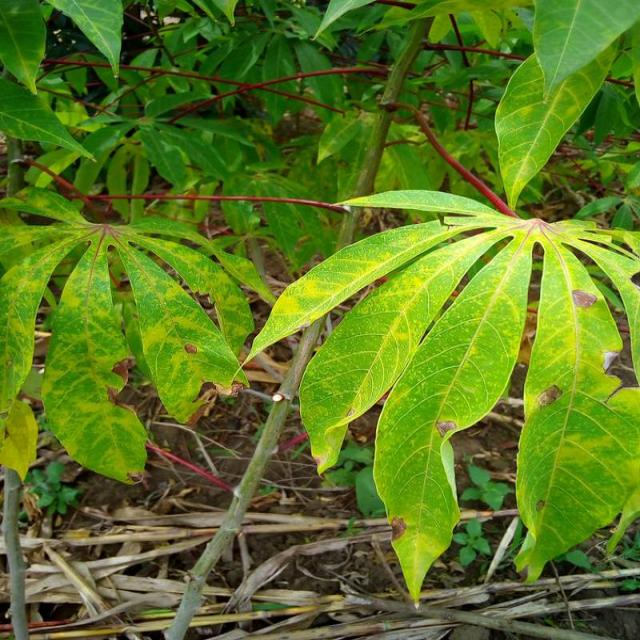cassava leaf: (247, 185, 638, 606), (371, 227, 534, 607), (493, 0, 638, 211), (40, 232, 148, 486), (110, 232, 250, 424)
